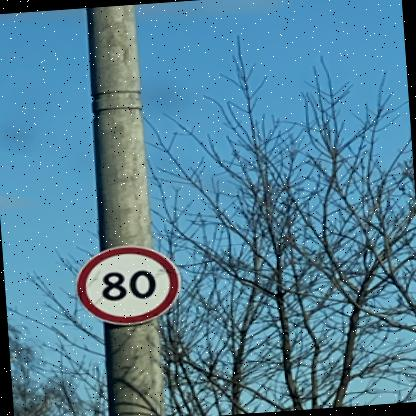speedlimit: (72, 242, 181, 326)
